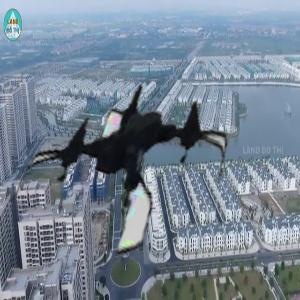drone: (19, 70, 229, 280)
